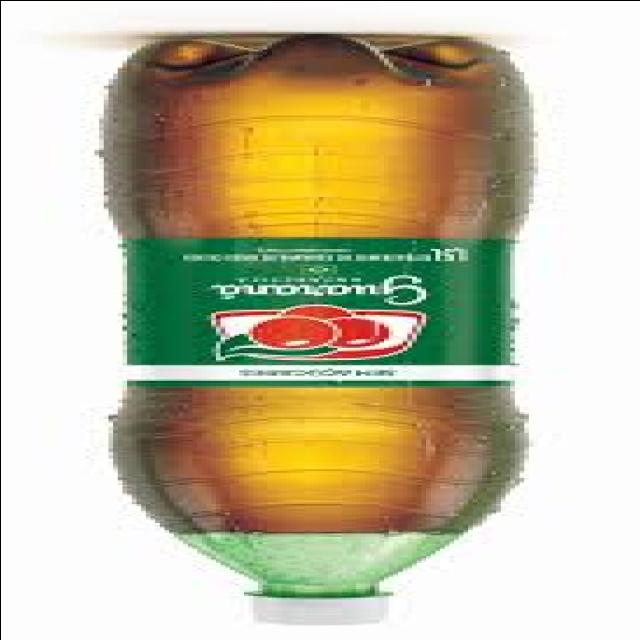bottom: (88, 23, 554, 98)
cap: (217, 568, 430, 634)
